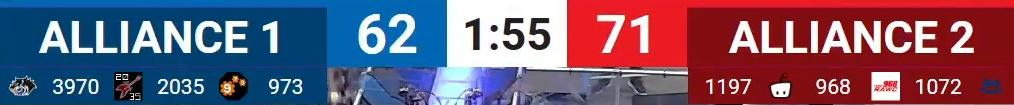blue_score: (353, 11, 419, 56)
red_score: (593, 11, 654, 56)
team_number: (913, 74, 965, 100), (153, 74, 208, 97), (703, 74, 756, 97), (51, 76, 102, 97), (263, 75, 306, 98), (811, 75, 852, 97)
timer: (461, 13, 554, 53)
